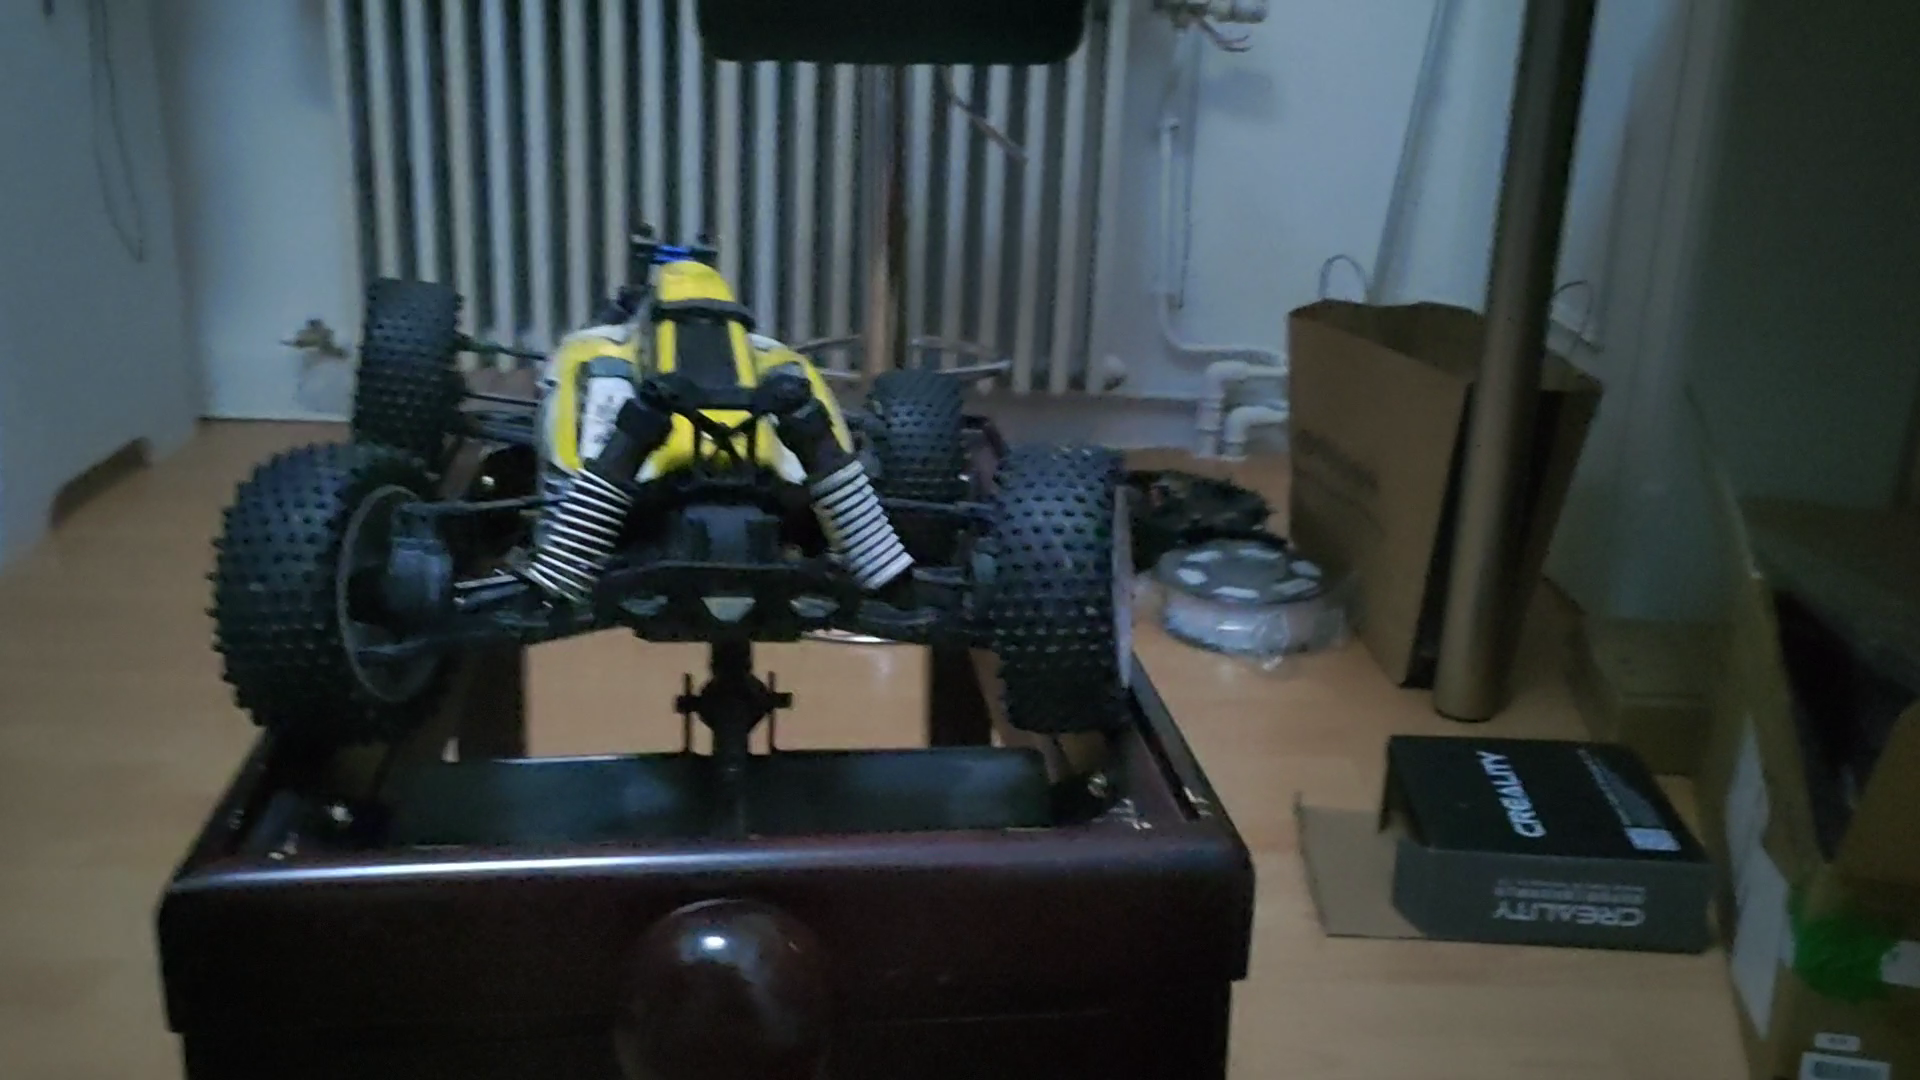buggy: (210, 233, 1143, 750)
